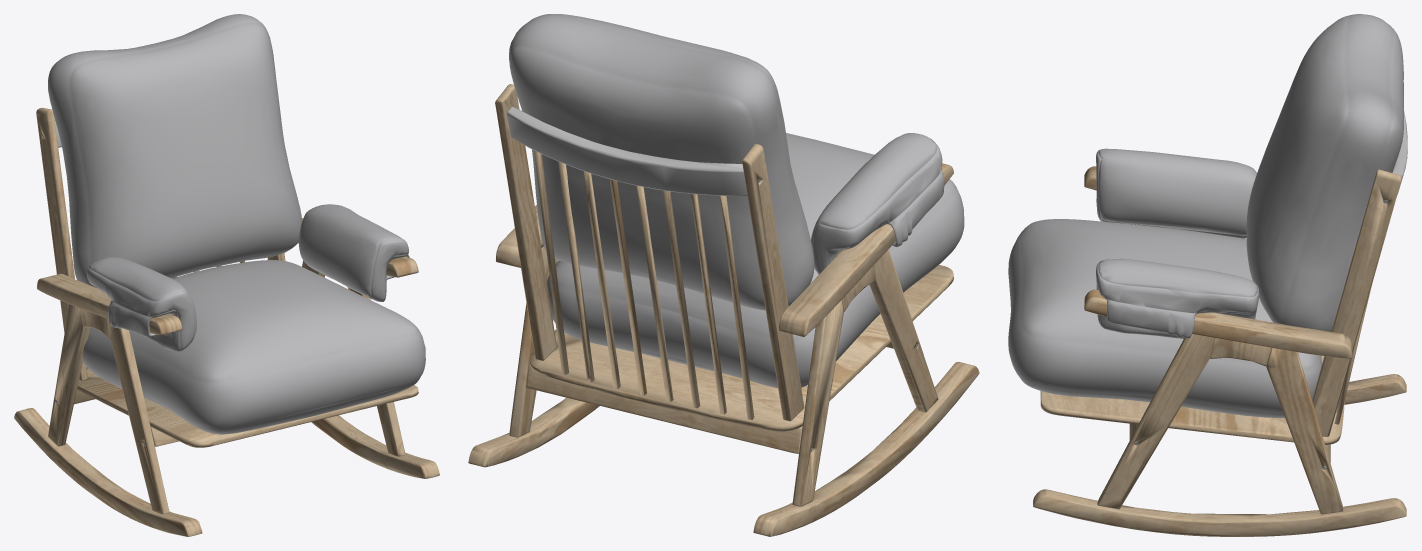
File: rocking-chair-011.glb
3 views of the same model, side by side, from view 1: azimuth 30°, elevation 25°; view 2: azimuth 150°, elevation 25°; view 3: azimuth 270°, elevation 25° (orthographic). The views are drawn at different scales.
Visible parts, largest first — view 1: rocking-chair-011; view 2: rocking-chair-011; view 3: rocking-chair-011.
Boxes of the visible parts, x1,y1,x2,y2 form: rocking-chair-011: (14,14,439,536); rocking-chair-011: (468,14,979,536); rocking-chair-011: (1008,14,1407,536).
Bounding box in the file's own units: 0.7102 × 0.975 × 0.8535.
1 material, 1 textured.
